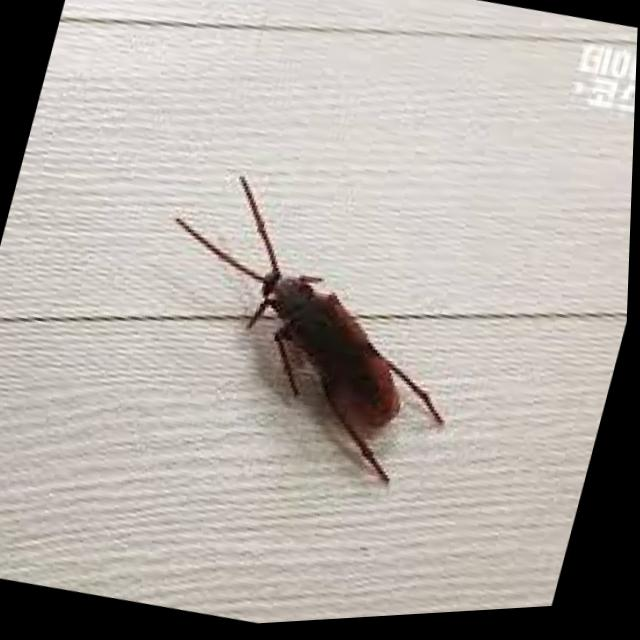Cockroach: (128, 152, 551, 546)
